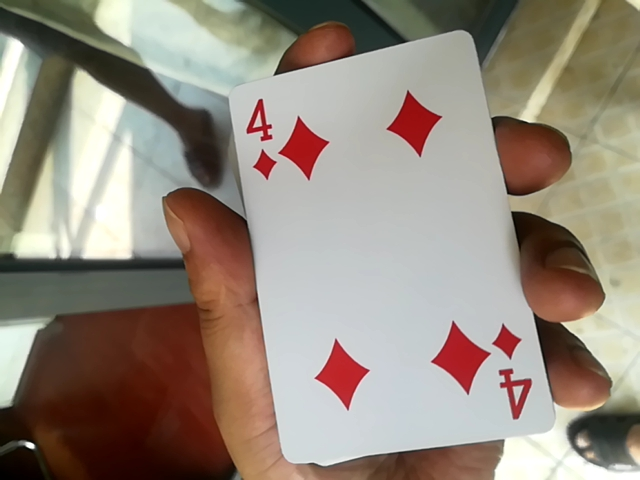fk 4: (215, 40, 548, 455)
